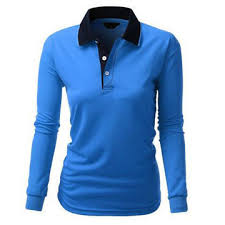C_polo shirt: (24, 13, 200, 214)
